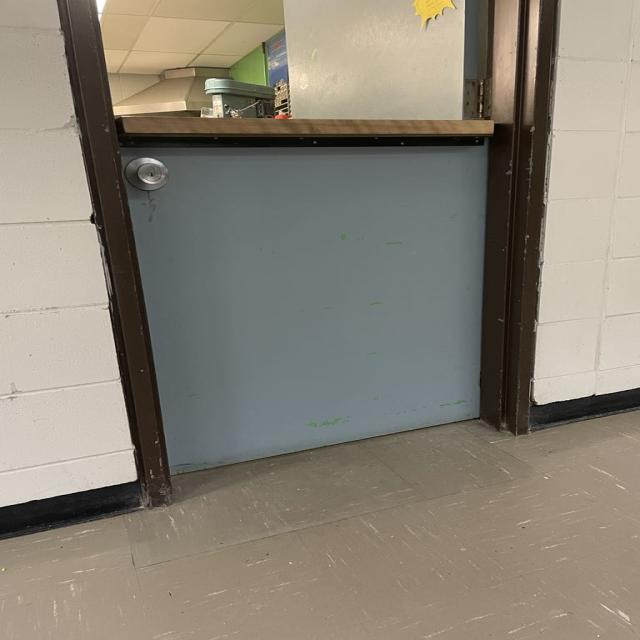door-knob: (125, 158, 168, 191)
